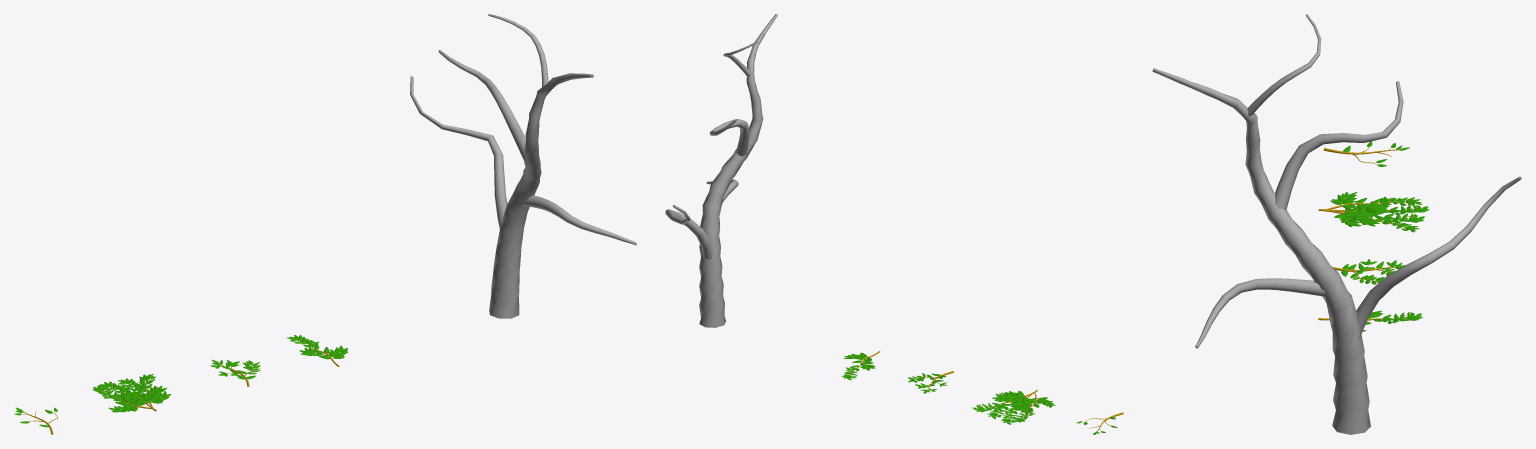
Rendered from Plants_01_high.fbx.
3 views of the same model, side by side, from view 1: azimuth 30°, elevation 25°; view 2: azimuth 150°, elevation 25°; view 3: azimuth 270°, elevation 25° (orthographic). The views are drawn at different scales.
Visible parts, largest first — view 1: Plants_02_high, Plants_01_high; view 2: Plants_02_high, Plants_01_high; view 3: Plants_02_high, Plants_01_high.
Part boxes in pixels (box(x1,y1,x2,y2)): Plants_02_high: box(410, 14, 636, 318); Plants_01_high: box(14, 335, 347, 434); Plants_02_high: box(665, 14, 777, 327); Plants_01_high: box(841, 351, 1123, 434); Plants_02_high: box(1152, 14, 1521, 434); Plants_01_high: box(1318, 141, 1429, 331).
Bounding box in the file's own units: 3724 × 2116 × 1781.
